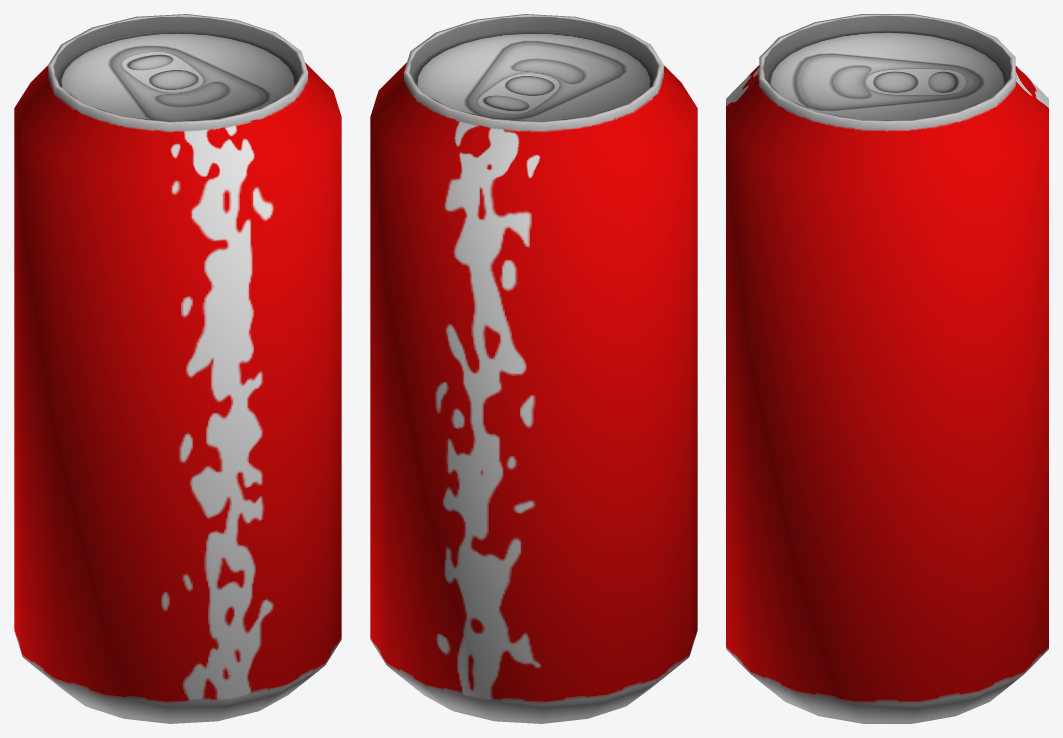
The model's file is sodared.glb.
3 views of the same model, side by side, from view 1: azimuth 30°, elevation 25°; view 2: azimuth 150°, elevation 25°; view 3: azimuth 270°, elevation 25° (orthographic).
Visible parts, largest first — view 1: sodared; view 2: sodared; view 3: sodared.
Part boxes in pixels (x1=…): sodared: x1=14, y1=14, x2=341, y2=723; sodared: x1=370, y1=14, x2=697, y2=723; sodared: x1=726, y1=14, x2=1048, y2=723.
Bounding box in the file's own units: 0.2196 × 0.4538 × 0.2196.
1 material, 1 textured.
